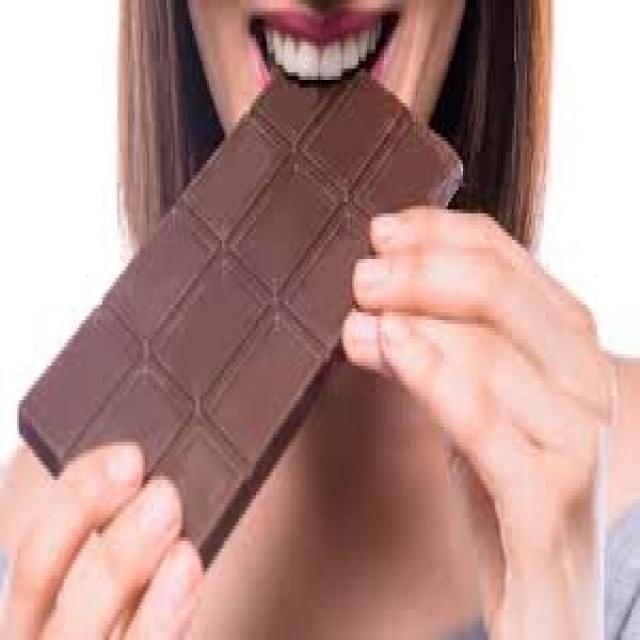Chocolate: (19, 60, 457, 576)
